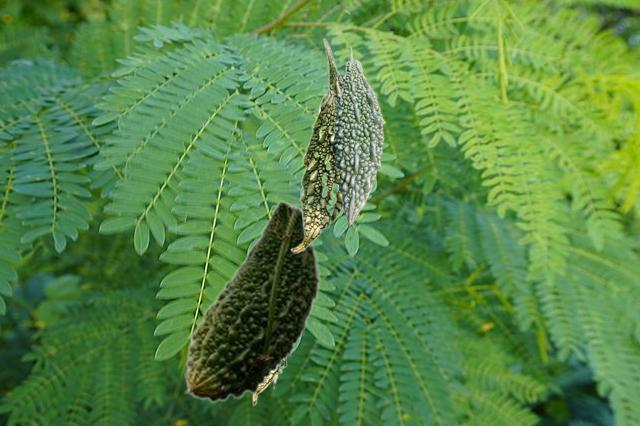ampalaya: (184, 200, 320, 402), (290, 37, 342, 252), (332, 44, 384, 225), (252, 356, 291, 405)
